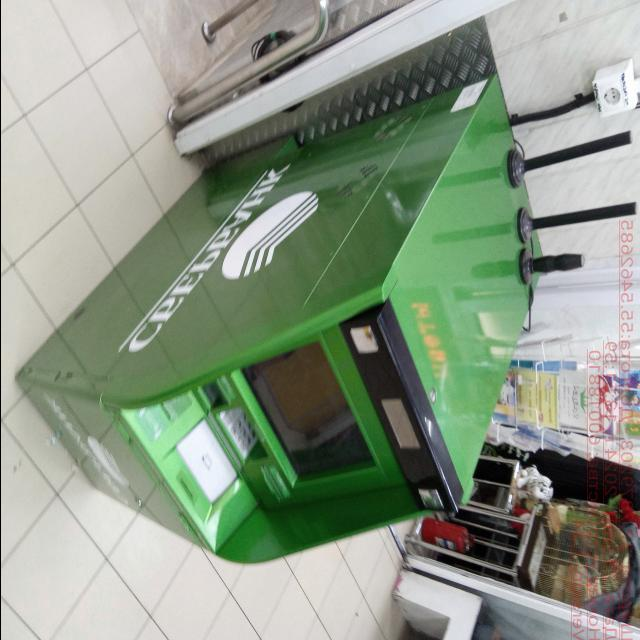bank: (19, 76, 548, 568)
